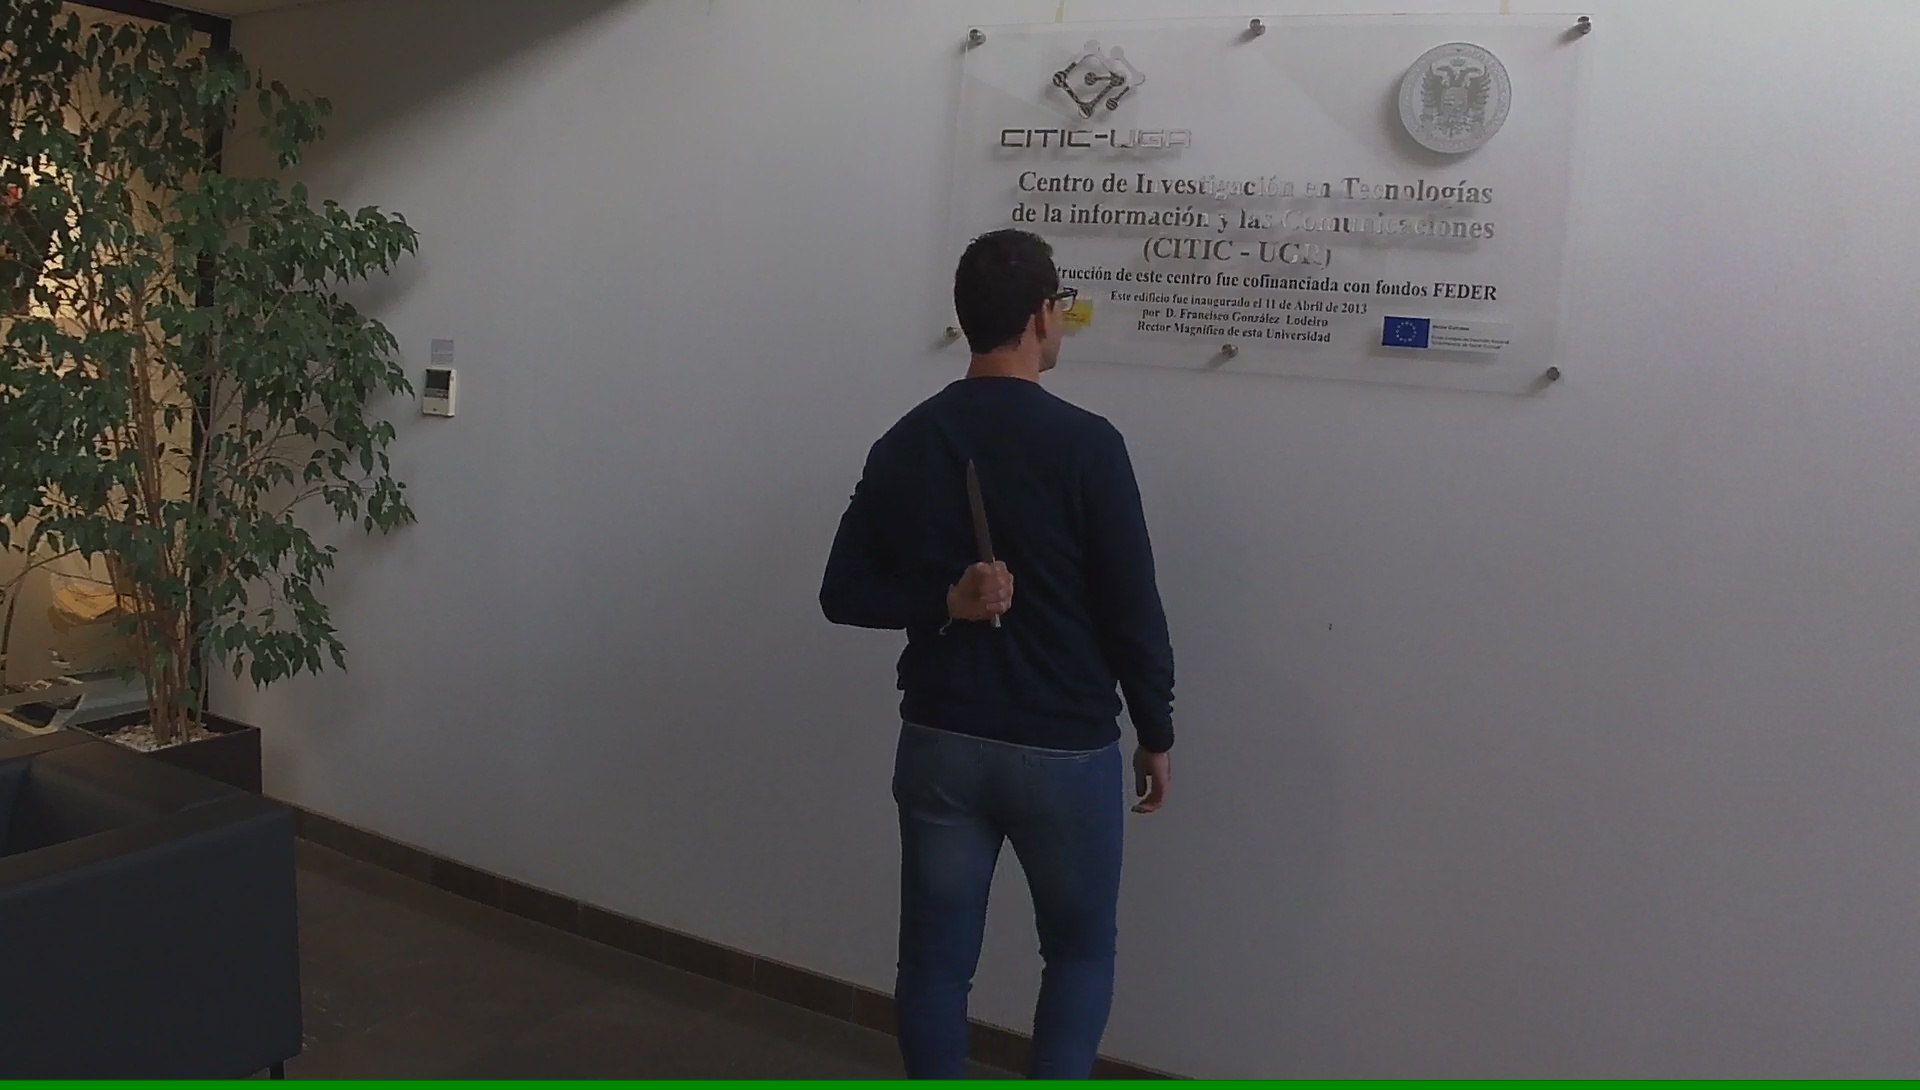knife: (955, 449, 1019, 633)
